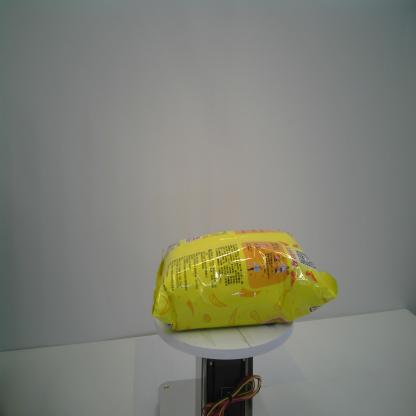Puffed Food: (150, 226, 340, 332)
